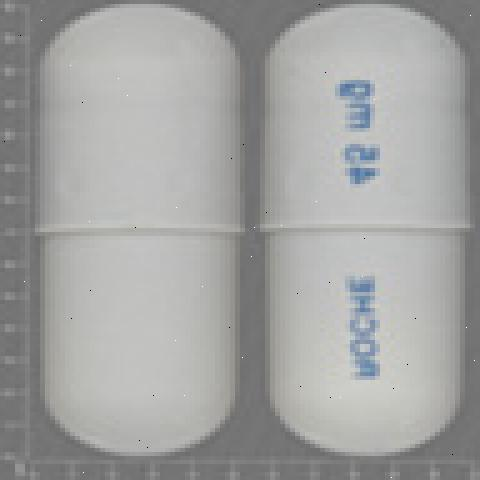Pill: (24, 6, 255, 464), (249, 3, 474, 463)
